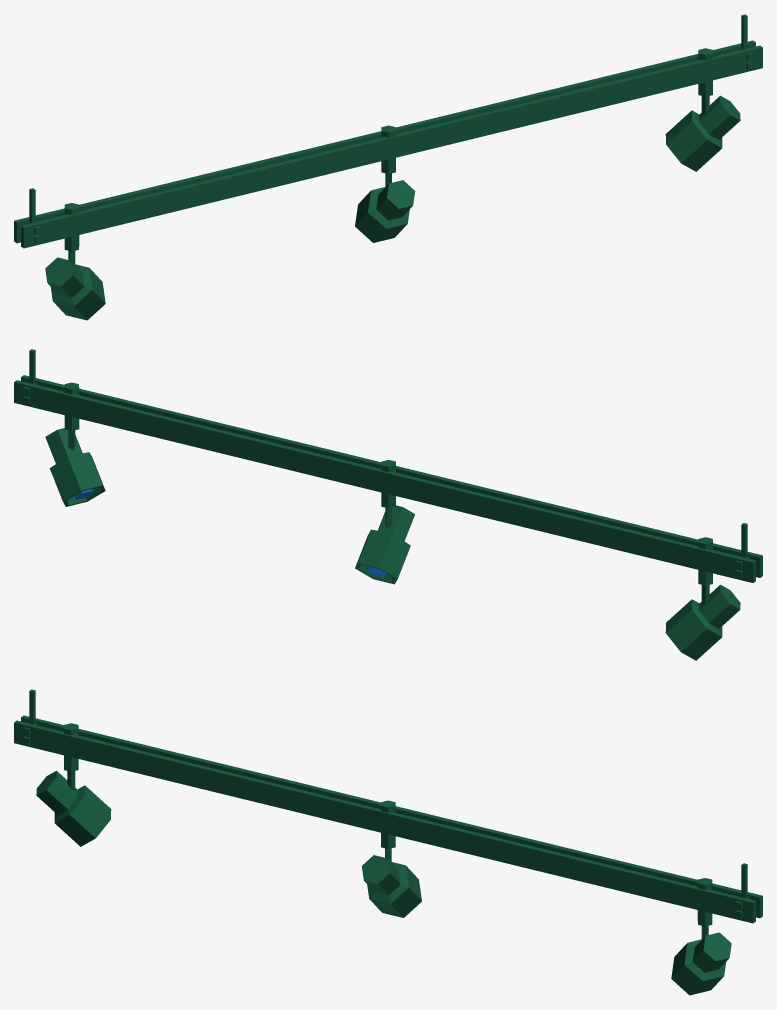
File: T_ceiling_lamp2.fbx
3 renders of one model, top to bottom at view 1: azimuth 30°, elevation 25°; view 2: azimuth 150°, elevation 25°; view 3: azimuth 330°, elevation 25°, orthographic.
Visible parts, largest first — view 1: ceiling_lamp2; view 2: ceiling_lamp2; view 3: ceiling_lamp2.
Part boxes in pixels (left/top/right/bottom): ceiling_lamp2: left=14, top=14, right=762, bottom=320; ceiling_lamp2: left=14, top=349, right=762, bottom=660; ceiling_lamp2: left=14, top=689, right=762, bottom=995.
Size of the model in its own units: 300 by 54.76 by 26.23.
